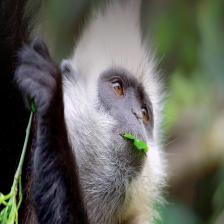monkey: (53, 0, 189, 210)
